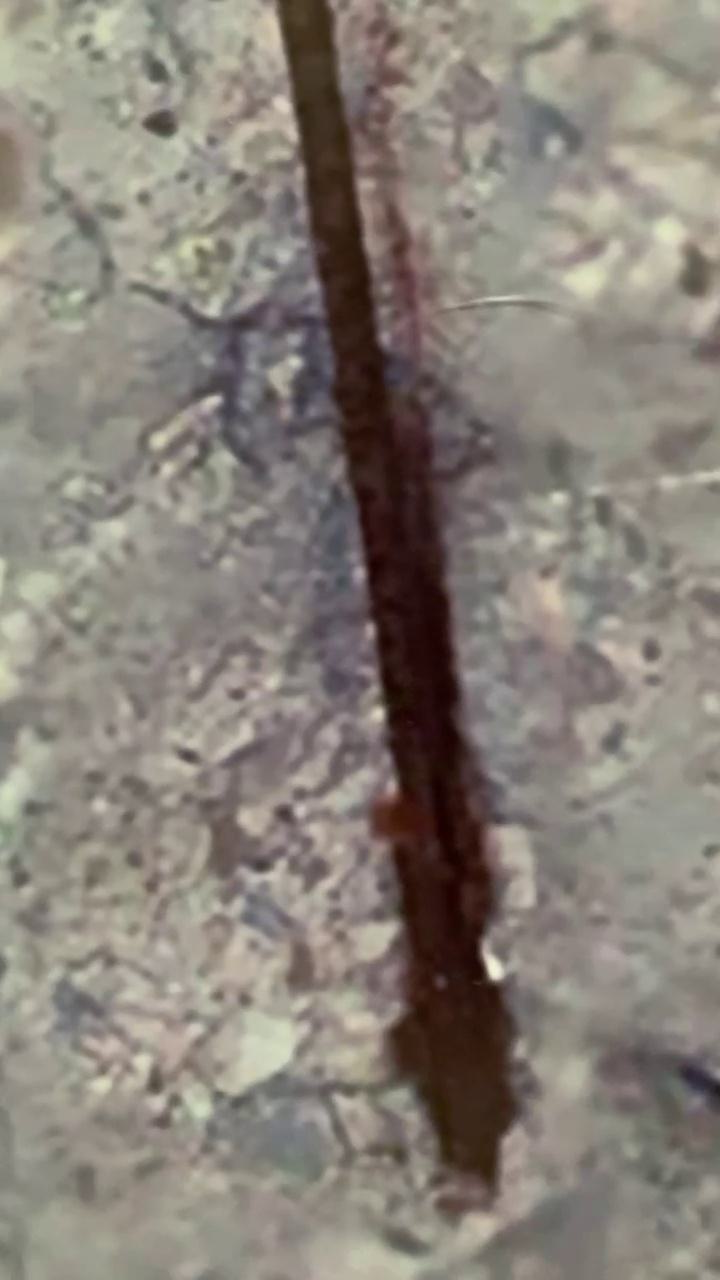Exposed reinforcement: (278, 1, 524, 1197)
